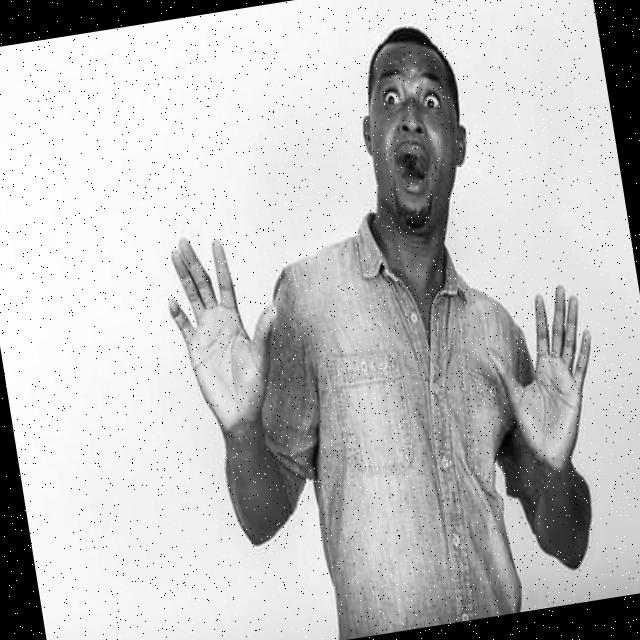Fear: (363, 36, 468, 237)
